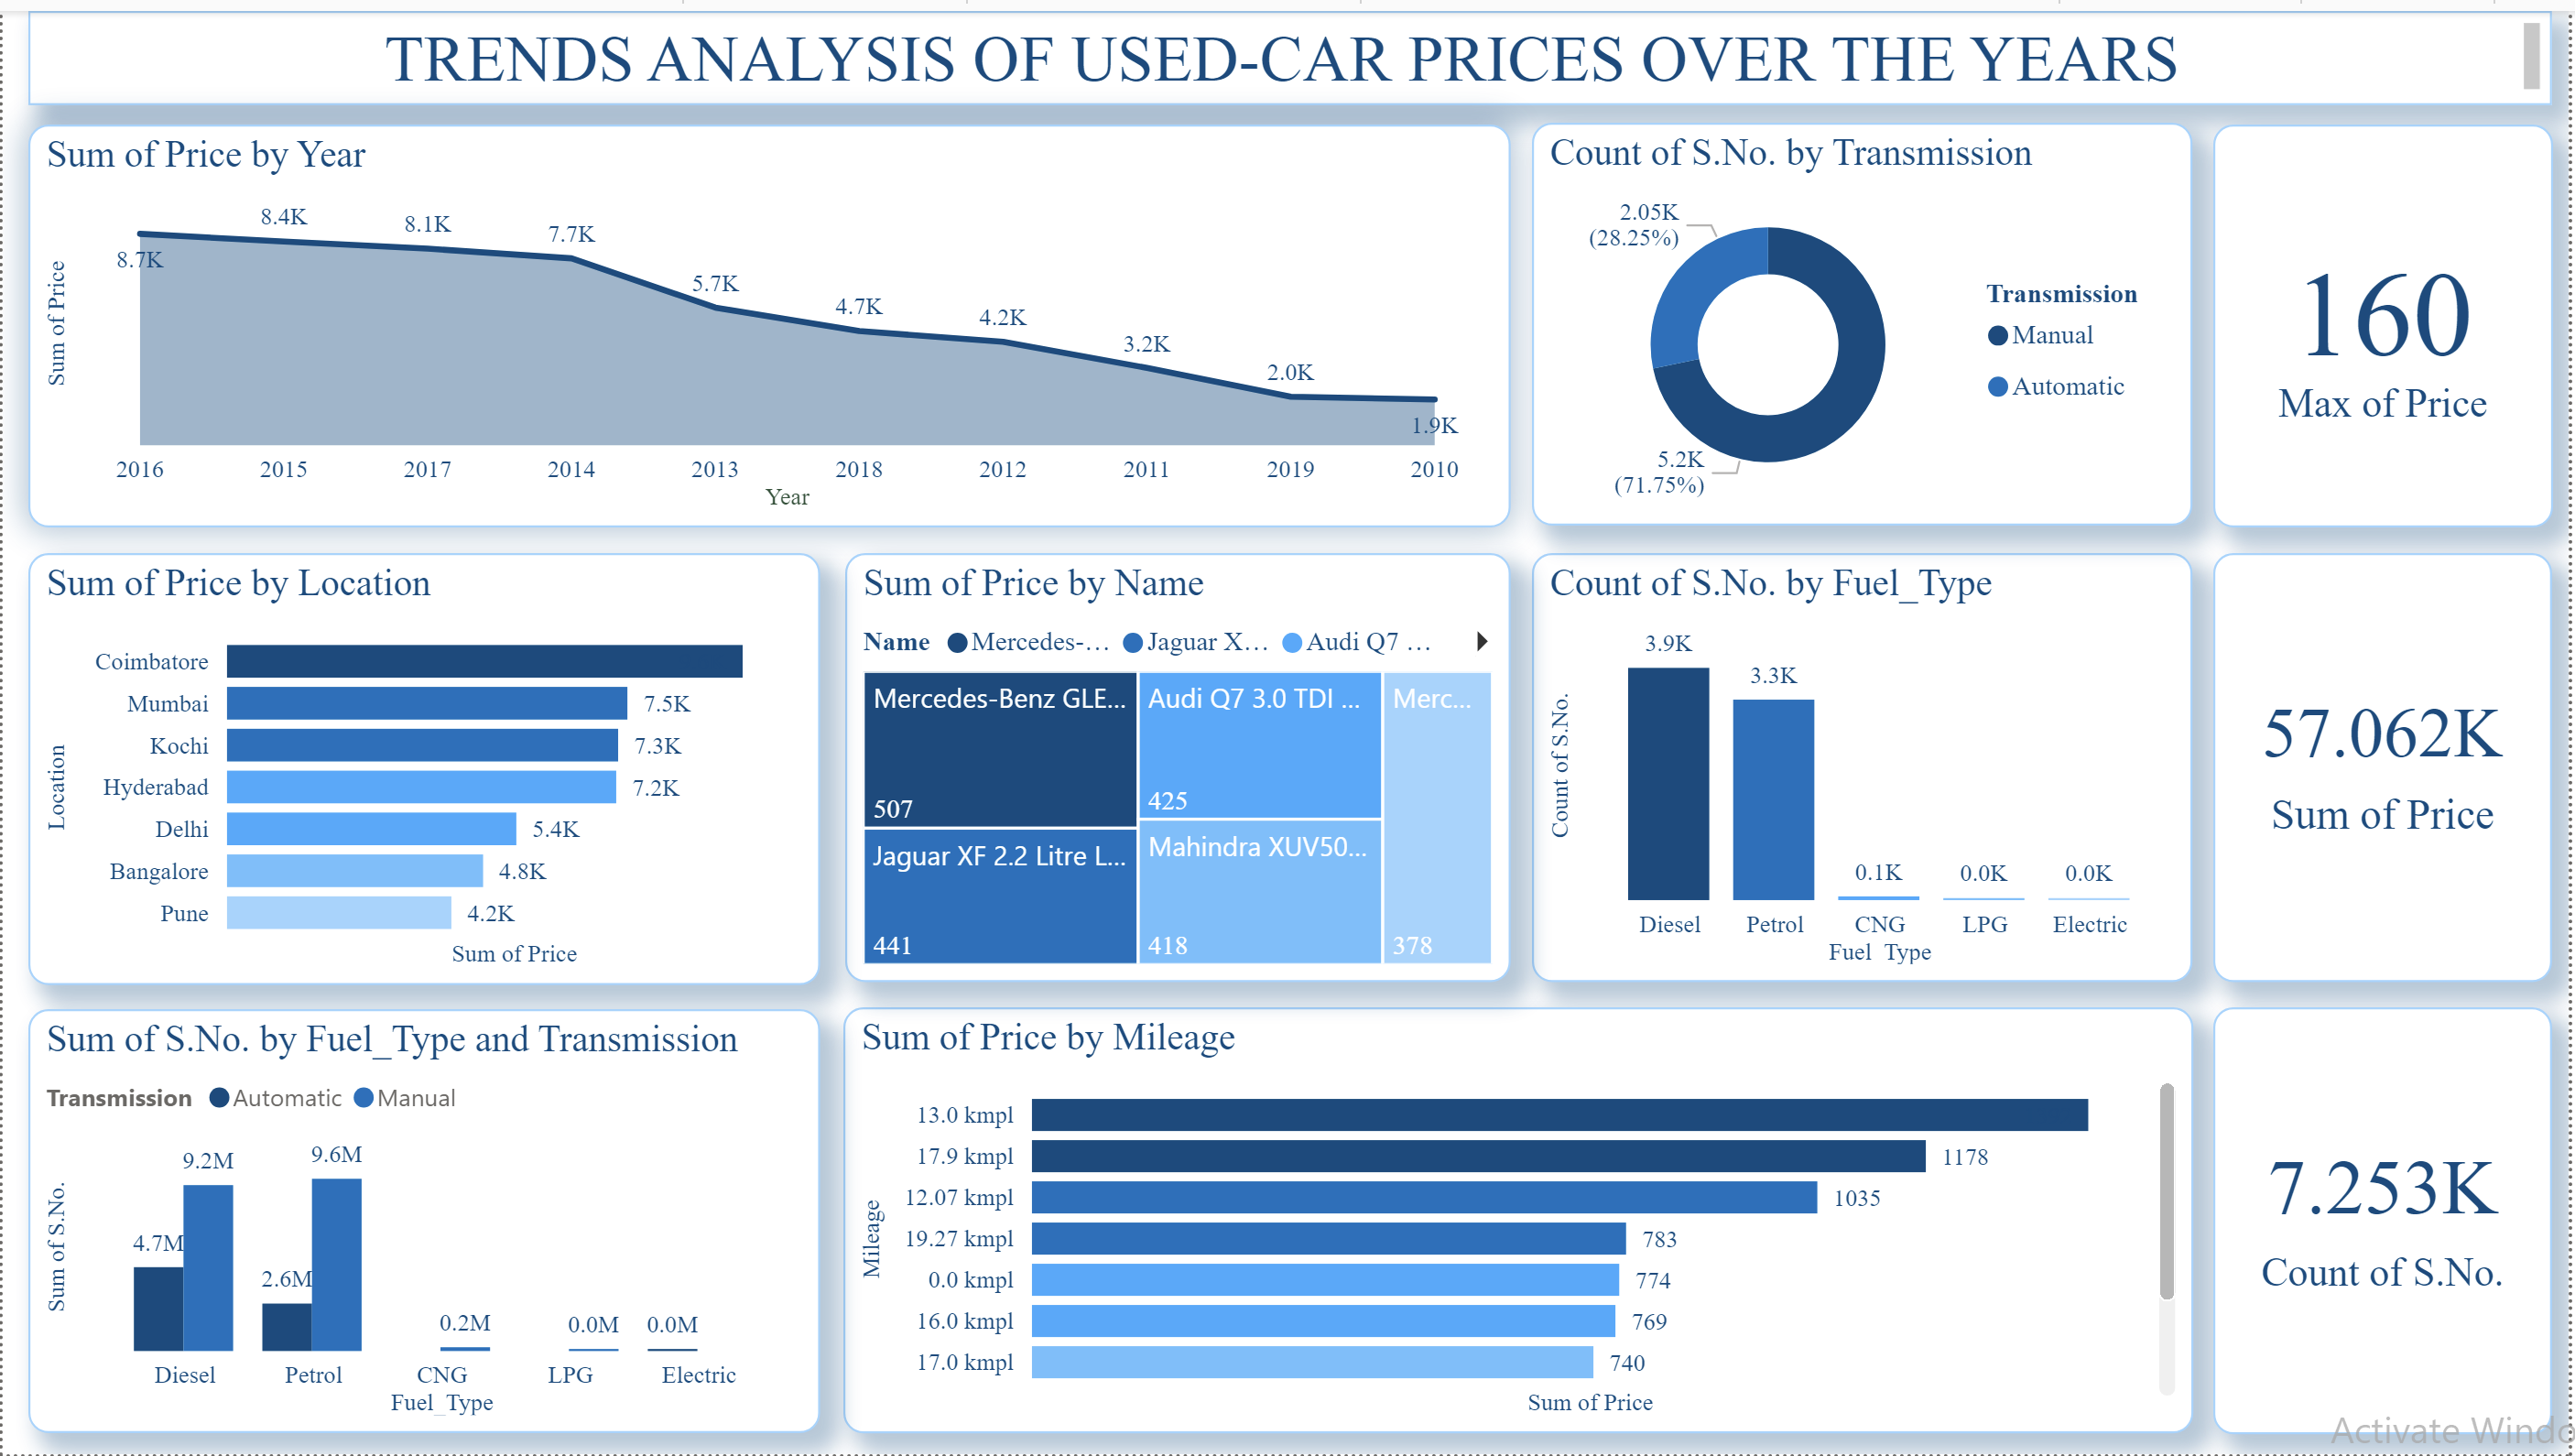

What the dashboard file says about the page in this screenshot:
{"tool":"powerbi","page":{"name":"Page 1","canvas":[1280,720],"ordinal":0},"visuals":[{"type":"textbox","box":[12.9,0,1258.8,47],"z":0},{"type":"areaChart","fields":{"Category":["used_cars_data.Year"],"Y":["Sum(used_cars_data.Price)"]},"box":[12.9,56.4,739.3,201],"z":1000},{"type":"columnChart","fields":{"Category":["used_cars_data.Fuel_Type"],"Y":["CountNonNull(used_cars_data.S.No.)"]},"box":[762.5,270,329.5,214.1],"z":2000},{"type":"barChart","fields":{"Category":["used_cars_data.Mileage"],"Y":["Sum(used_cars_data.Price)"]},"box":[419.6,497.2,673.5,212.7],"z":3000},{"type":"treemap","fields":{"Group":["used_cars_data.Name"],"Values":["Sum(used_cars_data.Price)"]},"box":[419.9,270,331.9,214.1],"z":4000},{"type":"barChart","fields":{"Category":["used_cars_data.Location"],"Y":["Sum(used_cars_data.Price)"]},"box":[13.1,270,394.9,215.3],"z":5000},{"type":"donutChart","fields":{"Category":["used_cars_data.Transmission"],"Y":["CountNonNull(used_cars_data.S.No.)"]},"box":[762.5,55.9,329.5,201],"z":6000},{"type":"clusteredColumnChart","fields":{"Category":["used_cars_data.Fuel_Type"],"Y":["Sum(used_cars_data.S.No.)"],"Series":["used_cars_data.Transmission"]},"box":[12.9,498.4,394.9,211.6],"z":7000},{"type":"card","fields":{"Values":["Max(used_cars_data.Price)"]},"box":[1102.5,56.4,169.3,201],"z":8000},{"type":"cardVisual","fields":{"Data":["Sum(used_cars_data.Price)"]},"box":[1103,270,169,214],"z":10001},{"type":"cardVisual","fields":{"Data":["CountNonNull(used_cars_data.S.No.)"]},"box":[1103,497,169,213],"z":10002}]}

Visuals, with their boxes in screenshot pixels (x1, y1, x2, y2), scaled from the page's 1280x720 canvas onto the 2575x1456 screenshot:
textbox: [x1=26, y1=0, x2=2559, y2=95]
areaChart - used_cars_data.Year x Sum(used_cars_data.Price): [x1=26, y1=114, x2=1513, y2=520]
columnChart - used_cars_data.Fuel_Type x CountNonNull(used_cars_data.S.No.): [x1=1534, y1=546, x2=2197, y2=979]
barChart - used_cars_data.Mileage x Sum(used_cars_data.Price): [x1=844, y1=1005, x2=2199, y2=1436]
treemap - used_cars_data.Name x Sum(used_cars_data.Price): [x1=844, y1=546, x2=1513, y2=979]
barChart - used_cars_data.Location x Sum(used_cars_data.Price): [x1=27, y1=546, x2=820, y2=982]
donutChart - used_cars_data.Transmission x CountNonNull(used_cars_data.S.No.): [x1=1534, y1=113, x2=2197, y2=519]
clusteredColumnChart - used_cars_data.Fuel_Type x Sum(used_cars_data.S.No.): [x1=26, y1=1008, x2=820, y2=1436]
card - Max(used_cars_data.Price): [x1=2218, y1=114, x2=2559, y2=520]
cardVisual - Sum(used_cars_data.Price): [x1=2219, y1=546, x2=2559, y2=979]
cardVisual - CountNonNull(used_cars_data.S.No.): [x1=2219, y1=1005, x2=2559, y2=1436]
